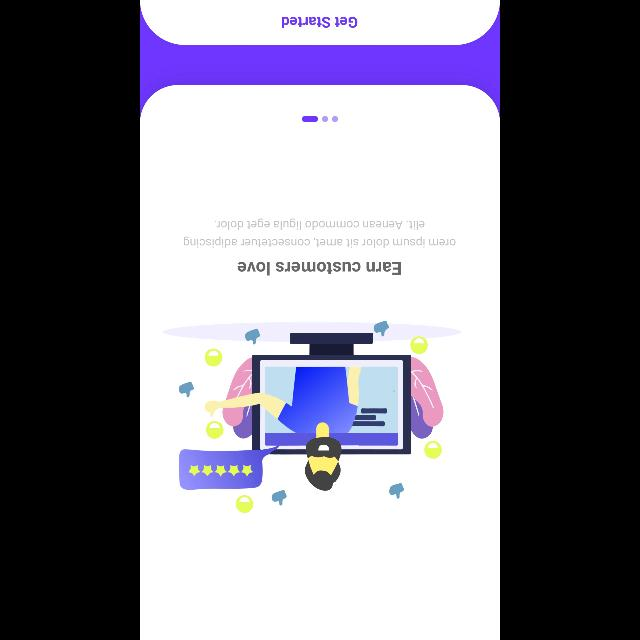image: (162, 320, 462, 514)
pageindicator: (302, 116, 338, 122)
text: (184, 218, 456, 248), (237, 261, 401, 275)
textbutton: (140, 0, 500, 46)
